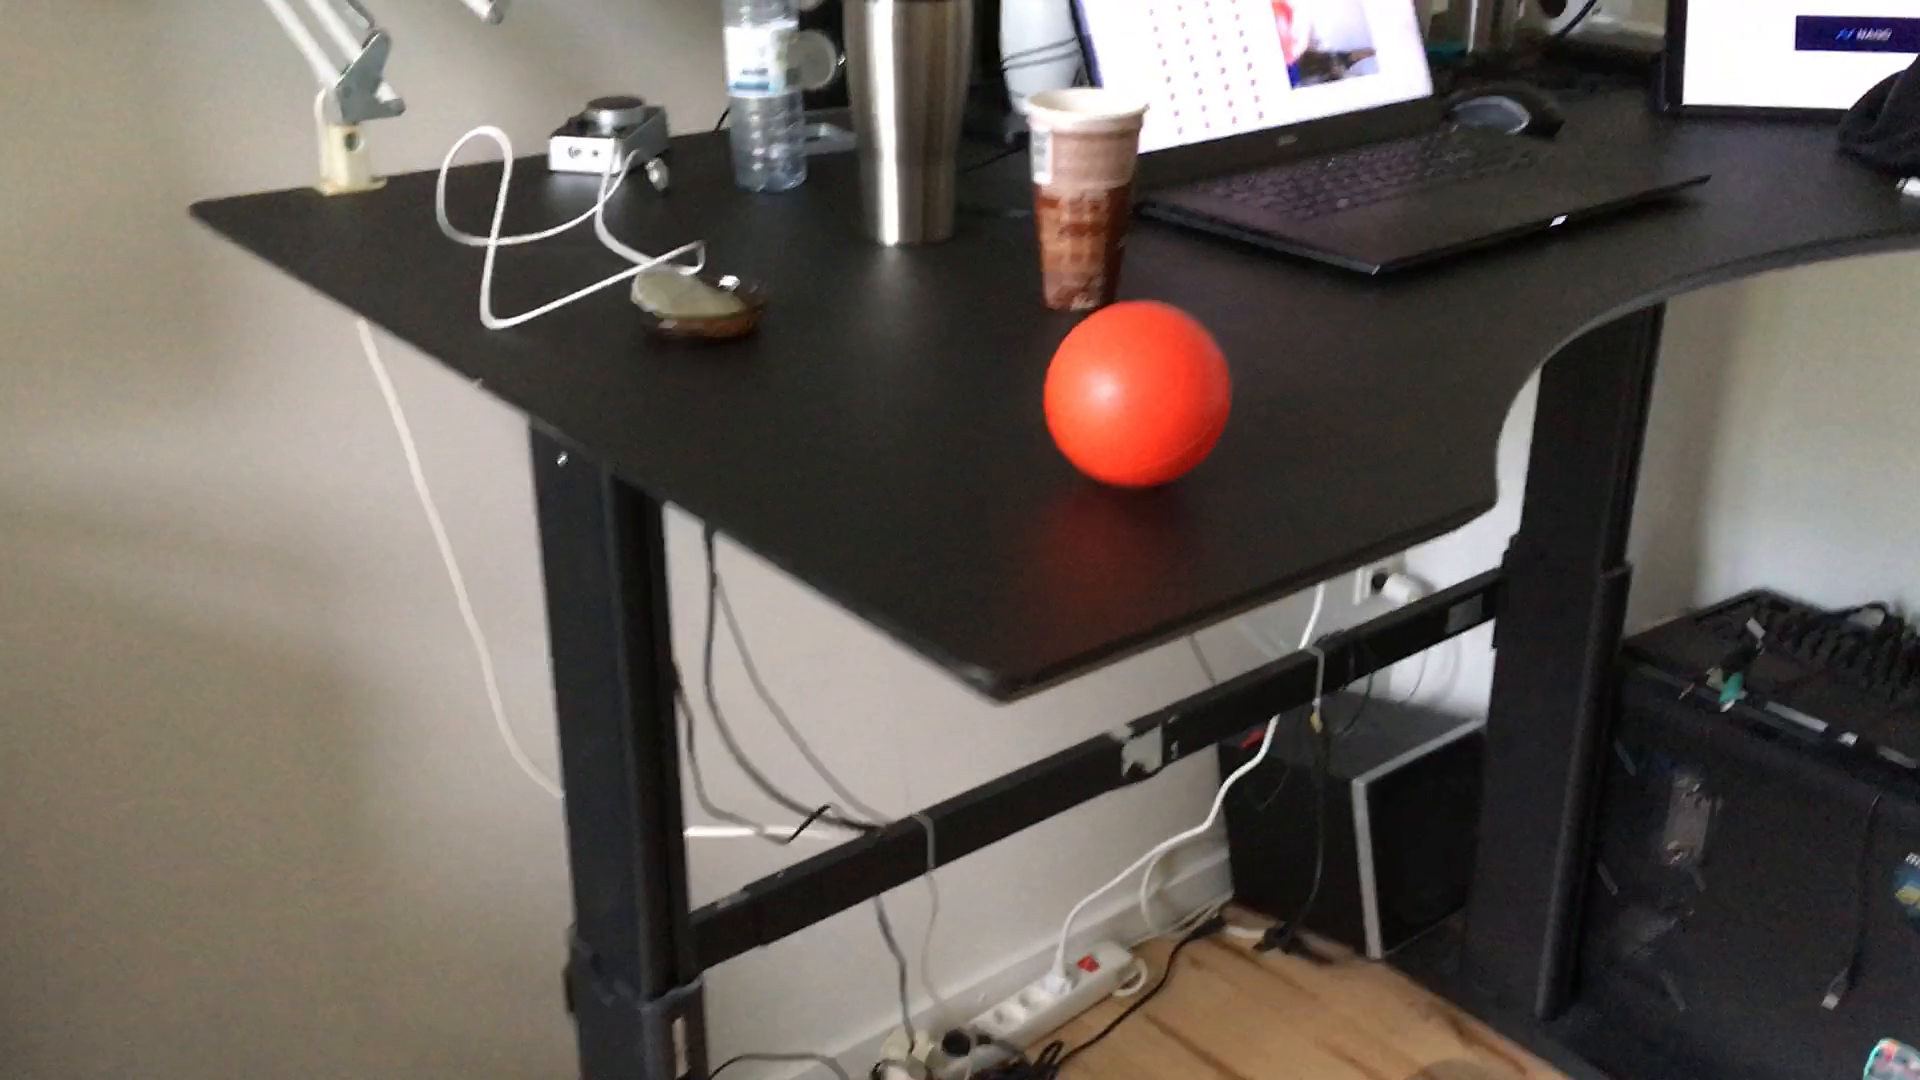Ball: (1038, 297, 1236, 491)
